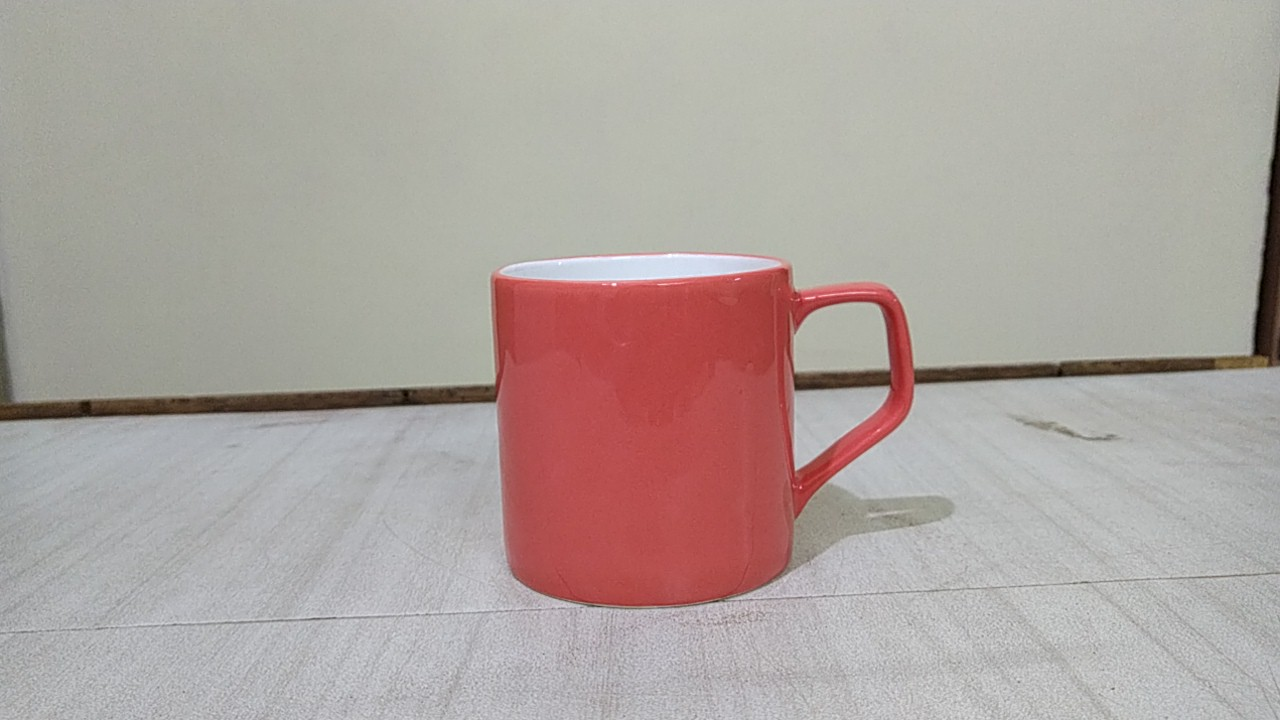cup: (477, 246, 926, 620)
